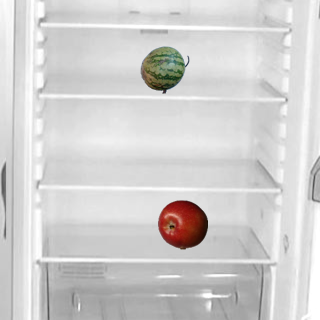Apple Braeburn: (157, 199, 207, 249)
Watermelon: (139, 44, 189, 94)
